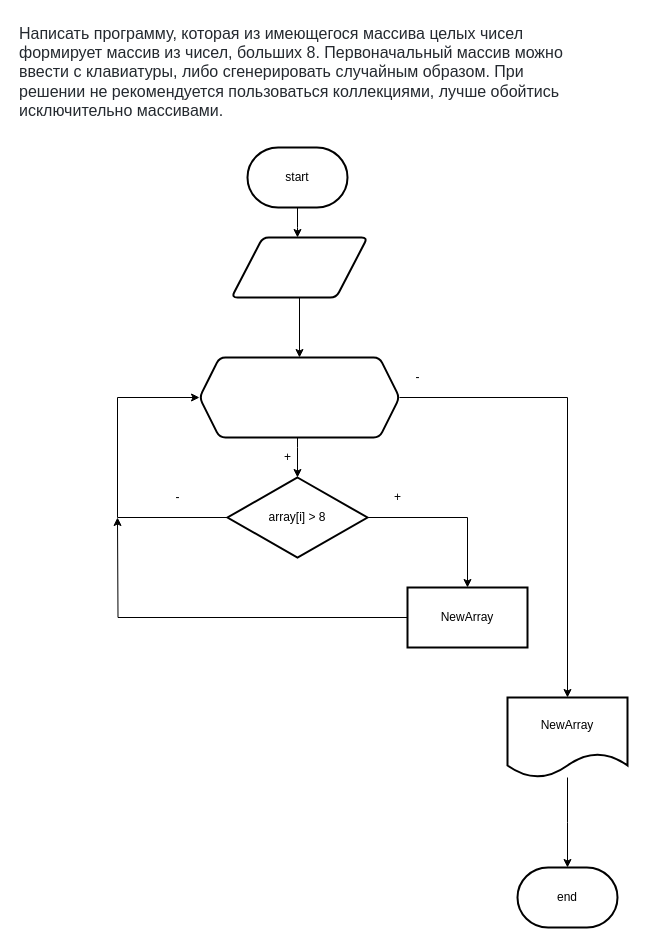
Some shapes in this 645 by 945 pixel diagram are drawn without their labels. Each missing label, with the box of its shape:
Array: (230, 236, 368, 298)
i=0, Array.Length,1: (198, 356, 400, 438)
